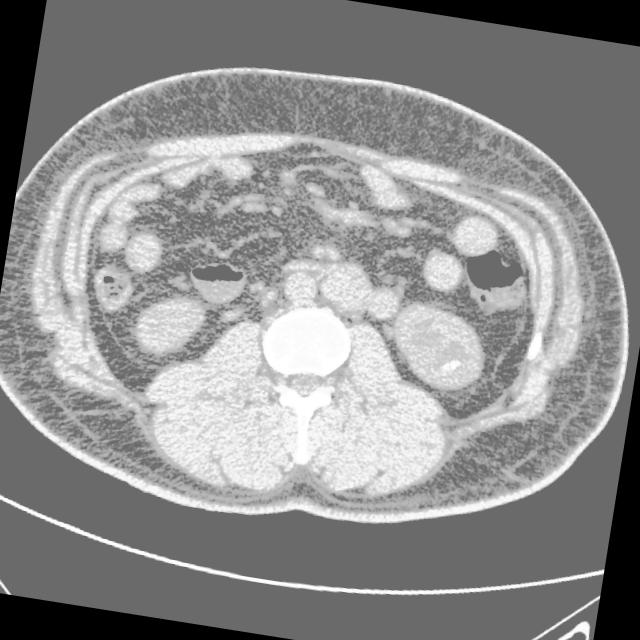STONE: (135, 172, 566, 406)
